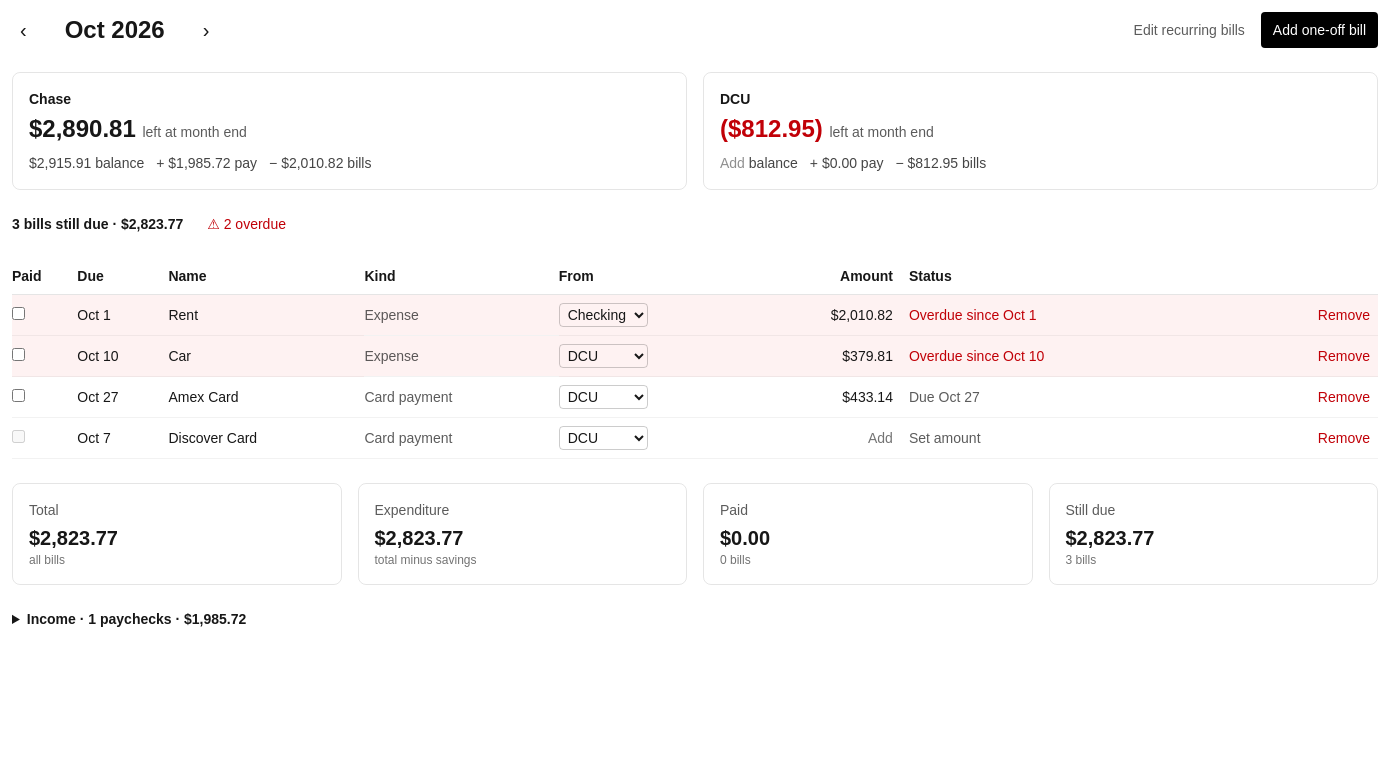
BillsPage › an invalid amount shows an error and sends nothing
Click the button named "Car amount" at (868, 356), box 842,346 -> 893,366
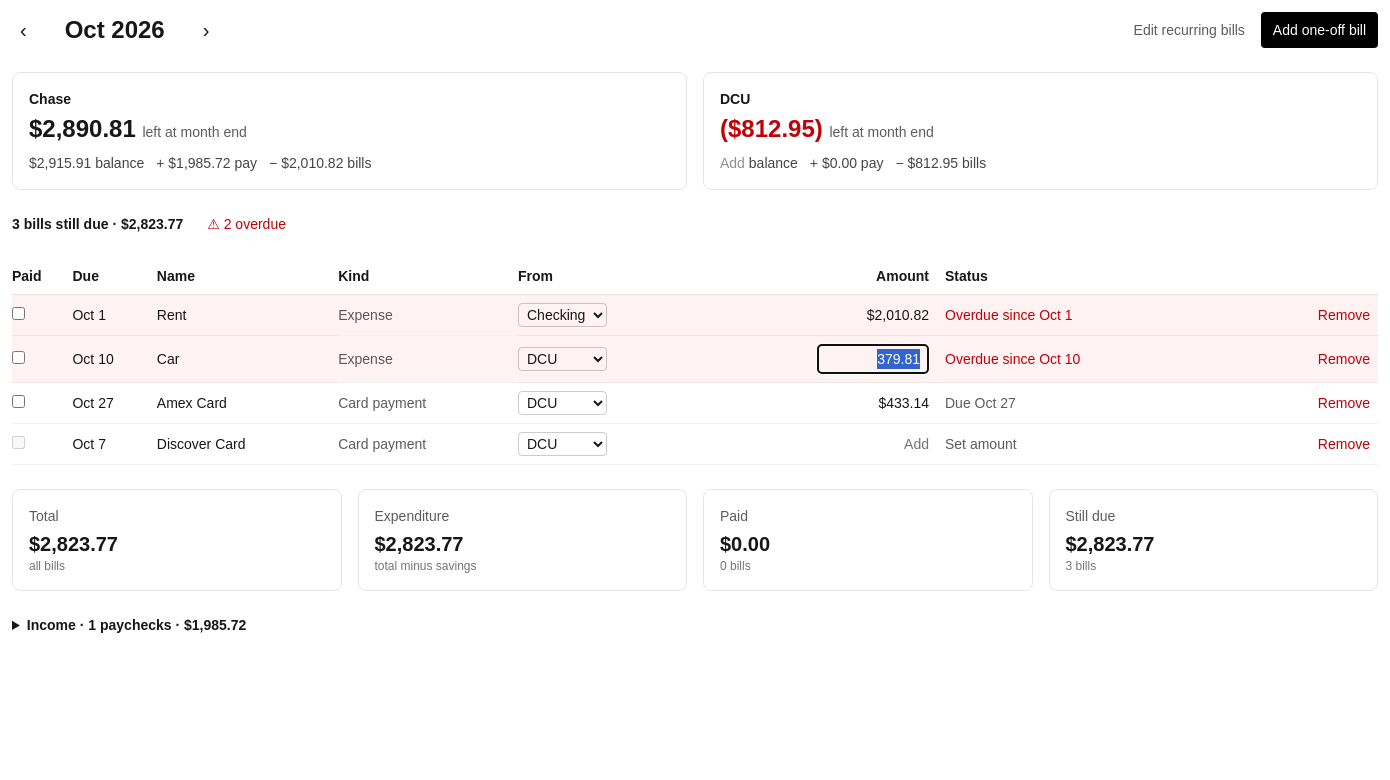
Replace the text in the field named "Car amount" with "abc" at (873, 359), box 817,344 -> 929,374
Then press Enter
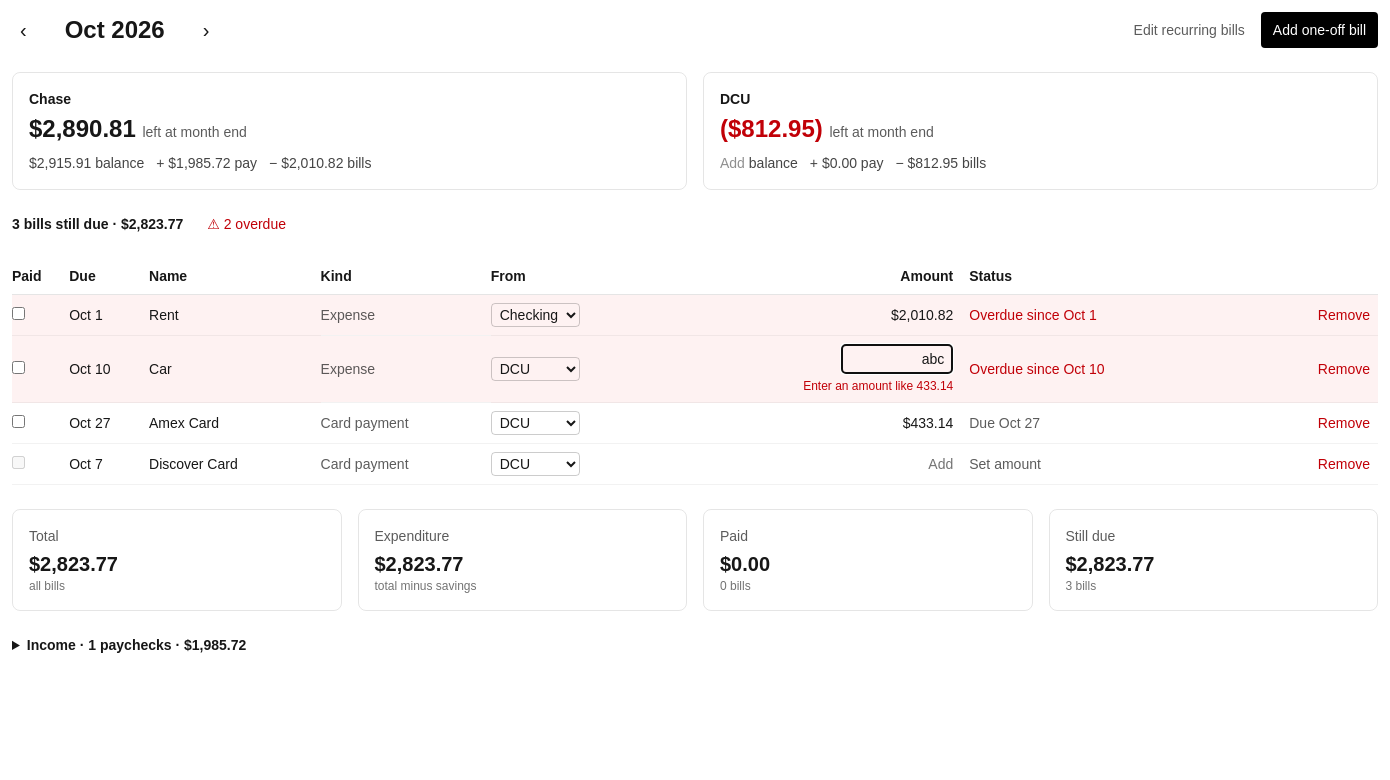
Result: the text "Enter an amount like 433.14" is shown at 803,378 -> 953,394
